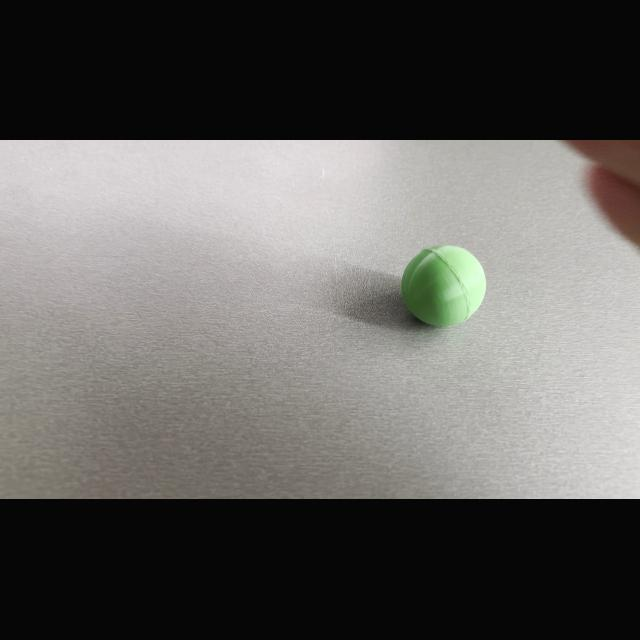objects: (392, 235, 498, 333)
